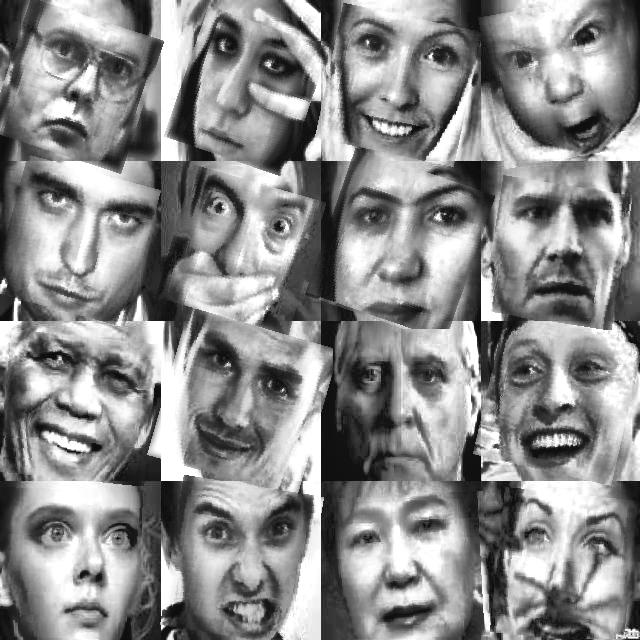angry: (316, 158, 484, 334), (484, 0, 639, 163), (165, 479, 318, 640), (0, 7, 155, 165), (333, 329, 473, 486)
fear: (164, 173, 318, 327), (493, 490, 634, 640), (2, 488, 142, 639), (487, 180, 628, 326)
happy: (156, 317, 330, 489), (480, 321, 636, 479), (322, 9, 476, 161), (1, 332, 155, 482)
neutral: (0, 162, 153, 319), (174, 14, 320, 170)
sad: (334, 493, 488, 640)
